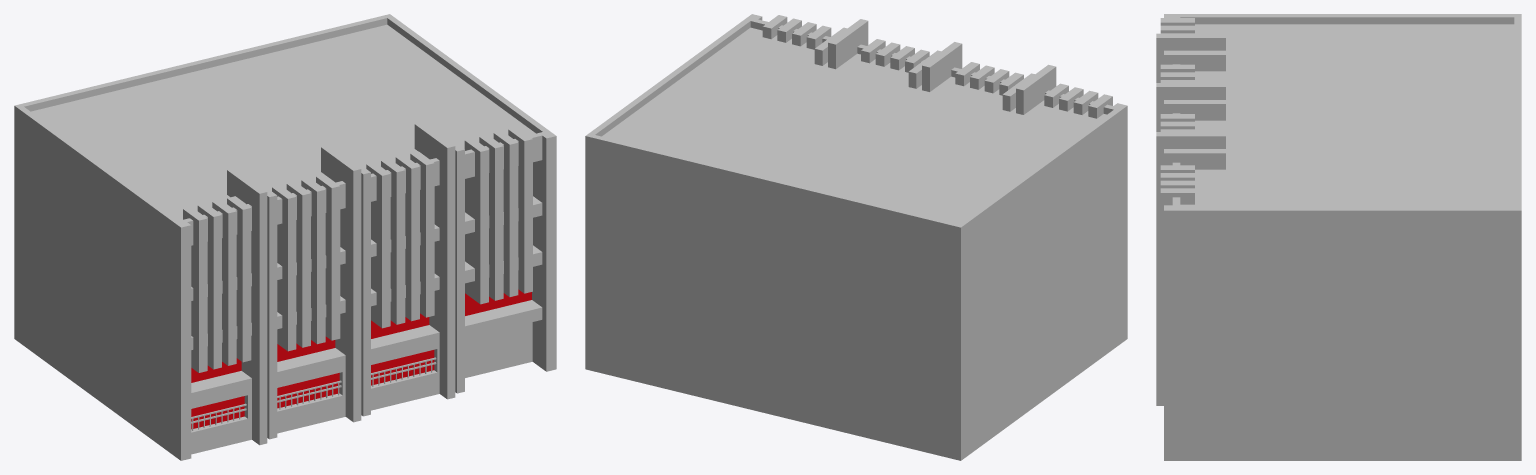
File: SM_infrastructure_buildings_018.gltf
3 views of the same model, side by side, from view 1: azimuth 30°, elevation 25°; view 2: azimuth 150°, elevation 25°; view 3: azimuth 270°, elevation 25° (orthographic). The views are drawn at different scales.
Parts seen in each view (by area): view 1: infrastructure_buildings_018; view 2: infrastructure_buildings_018; view 3: infrastructure_buildings_018.
Part boxes in pixels (x1,y1,x2,y2): infrastructure_buildings_018: (14,14,556,460); infrastructure_buildings_018: (585,14,1127,460); infrastructure_buildings_018: (1156,14,1521,460).
Size of the model in its own units: 32 by 20.48 by 25.13.
